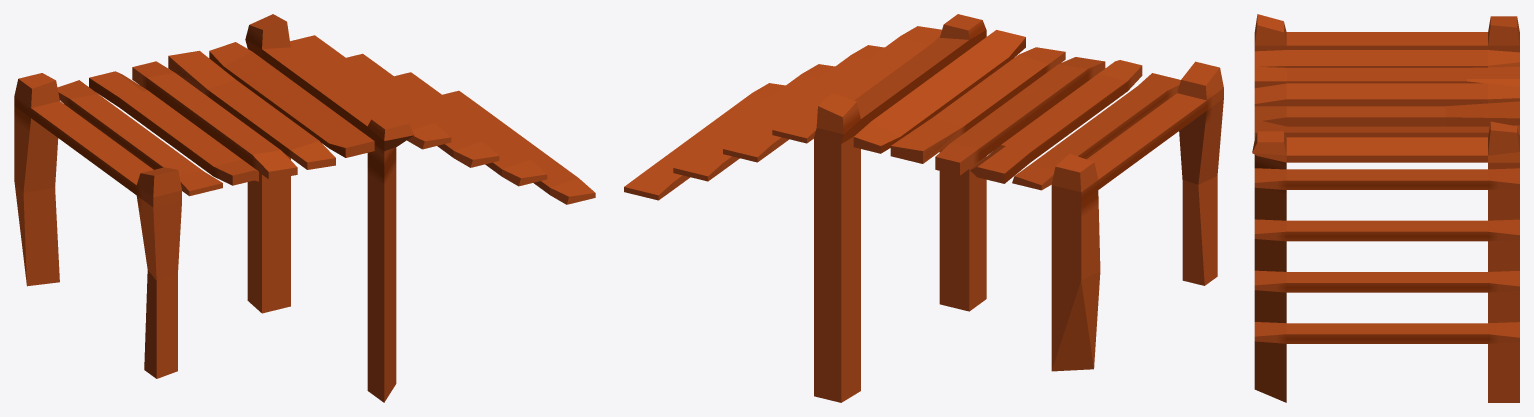
Rendered from Pier3.fbx.
3 views of the same model, side by side, from view 1: azimuth 30°, elevation 25°; view 2: azimuth 150°, elevation 25°; view 3: azimuth 270°, elevation 25° (orthographic). The views are drawn at different scales.
Parts seen in each view (by area): view 1: Pier; view 2: Pier; view 3: Pier.
Part boxes in pixels (bbox=[...]): Pier: bbox=[14, 14, 595, 402]; Pier: bbox=[624, 14, 1223, 402]; Pier: bbox=[1252, 14, 1519, 402].
Bounding box in the file's own units: 292 × 177 × 158.
Materials: 1 (1 with a texture image).
